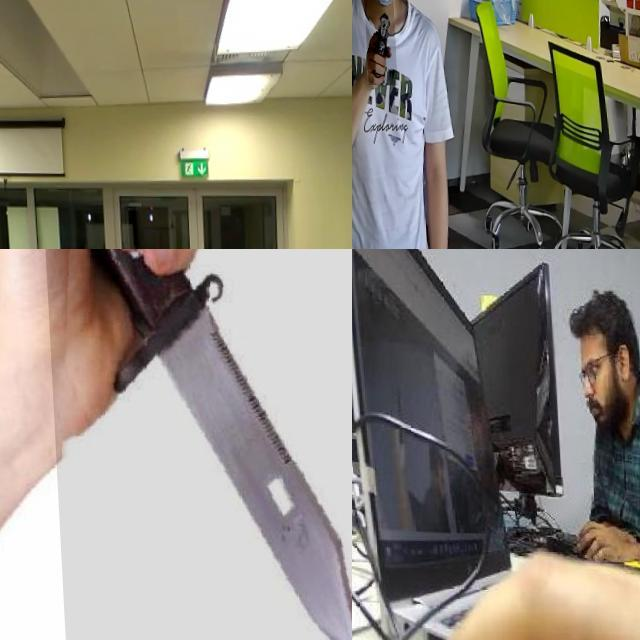-: (38, 249, 352, 640)
gun-knife-thesis - v11 Yolov5 augmented: (360, 0, 393, 83)
